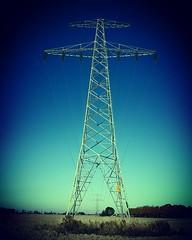power_tower: (42, 18, 156, 228)
